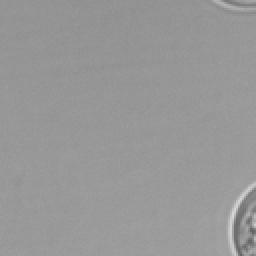picoshell: (226, 182, 254, 254), (212, 0, 254, 10)
